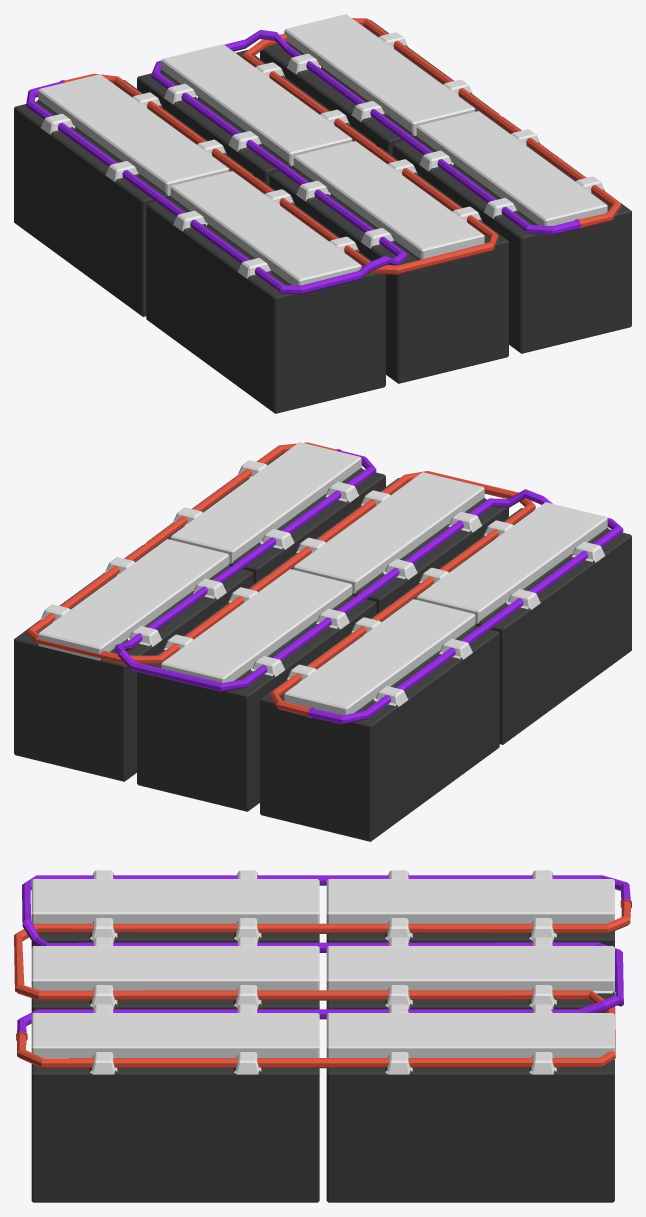
Rendered from accumulatorGameReady.fbx.
3 renders of one model, top to bottom at view 1: azimuth 30°, elevation 25°; view 2: azimuth 150°, elevation 25°; view 3: azimuth 270°, elevation 25°, orthographic. The views are drawn at different scales.
Parts seen in each view (by area): view 1: Cube.001; view 2: Cube.001; view 3: Cube.001.
Part boxes in pixels (box(x1,y1,x2,y2)): Cube.001: box(14, 14, 631, 413); Cube.001: box(14, 442, 631, 841); Cube.001: box(14, 870, 631, 1202).
Size of the model in its own units: 641 by 228 by 858.
